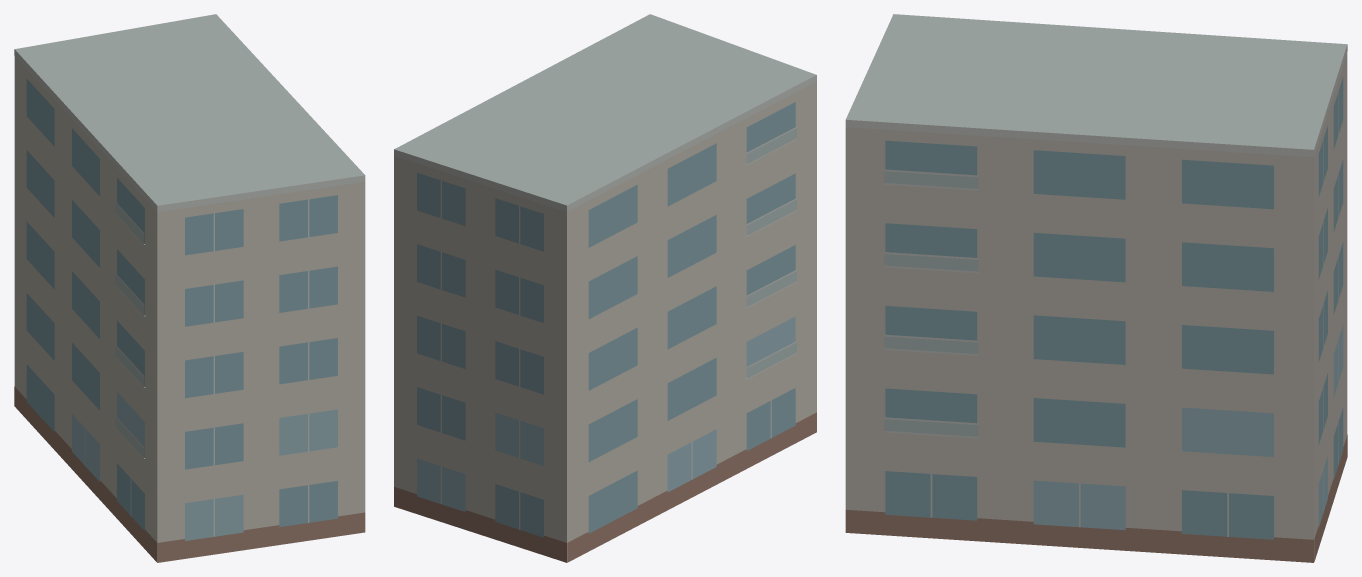
File: survey-upis-32745906.glb
3 renders of one model, left to right at view 1: azimuth 30°, elevation 25°; view 2: azimuth 150°, elevation 25°; view 3: azimuth 270°, elevation 25°, orthographic. The views are drawn at different scales.
Parts seen in each view (by area): view 1: survey-upis-32745906.tmp; view 2: survey-upis-32745906.tmp; view 3: survey-upis-32745906.tmp.
Part boxes in pixels (x1,y1,x2,y2): survey-upis-32745906.tmp: (14, 14, 365, 562); survey-upis-32745906.tmp: (394, 14, 816, 562); survey-upis-32745906.tmp: (845, 14, 1347, 562).
Bounding box in the file's own units: 9.53 × 13.5 × 14.87.
